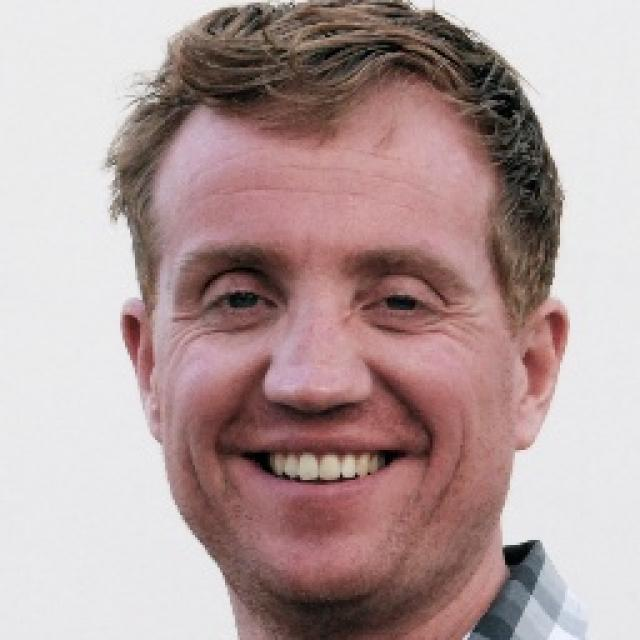earlobe: (516, 417, 545, 450), (144, 399, 162, 442)
eye: (204, 286, 277, 316), (362, 294, 436, 316)
nose: (268, 394, 366, 432)
wholeear: (516, 296, 570, 454), (120, 298, 164, 440)
